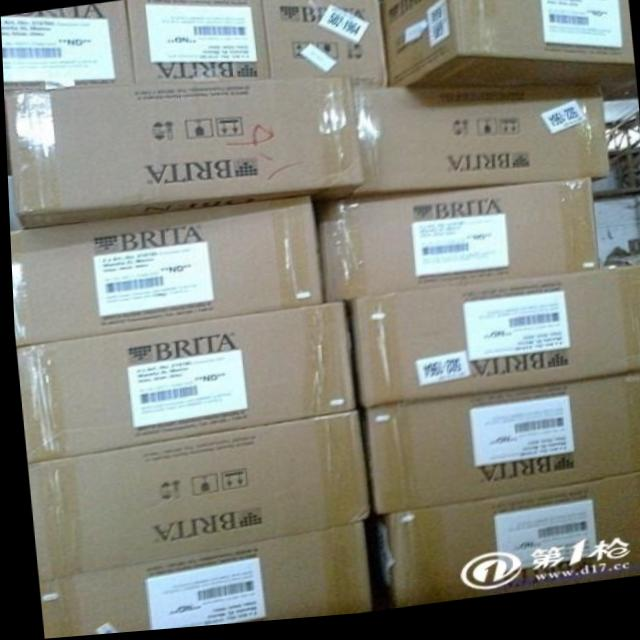box: (27, 413, 365, 583), (16, 306, 350, 464), (9, 83, 364, 228), (8, 197, 321, 347), (358, 382, 640, 521), (342, 280, 640, 411), (36, 525, 364, 639), (376, 480, 640, 613), (311, 190, 597, 309), (338, 82, 606, 203), (382, 0, 634, 96), (1, 3, 132, 172), (130, 0, 270, 82), (264, 0, 385, 89), (592, 206, 640, 277), (589, 169, 621, 208), (608, 265, 640, 276)
